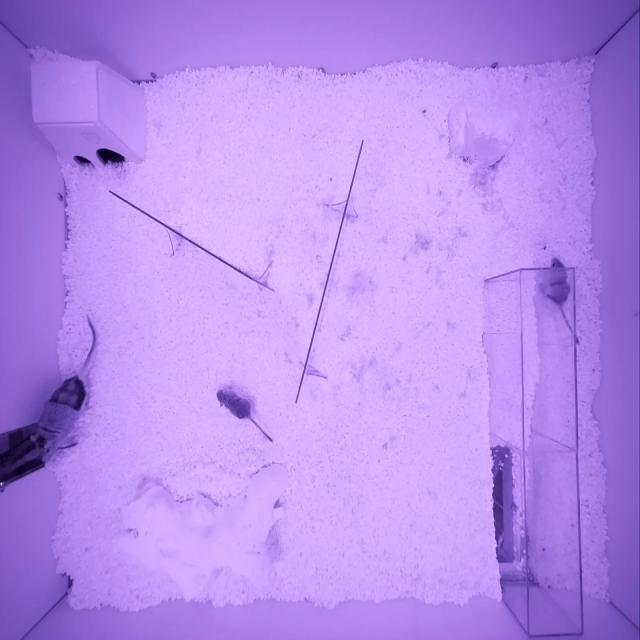adult_back: (33, 375, 89, 462)
pup_h_stripe: (546, 258, 570, 305)
pup_spotted: (216, 390, 251, 419)
